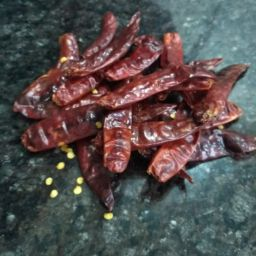Chiptole pepper: (16, 11, 248, 233), (97, 17, 214, 110), (35, 28, 111, 151), (48, 98, 153, 187), (92, 122, 221, 193), (194, 57, 256, 194)
